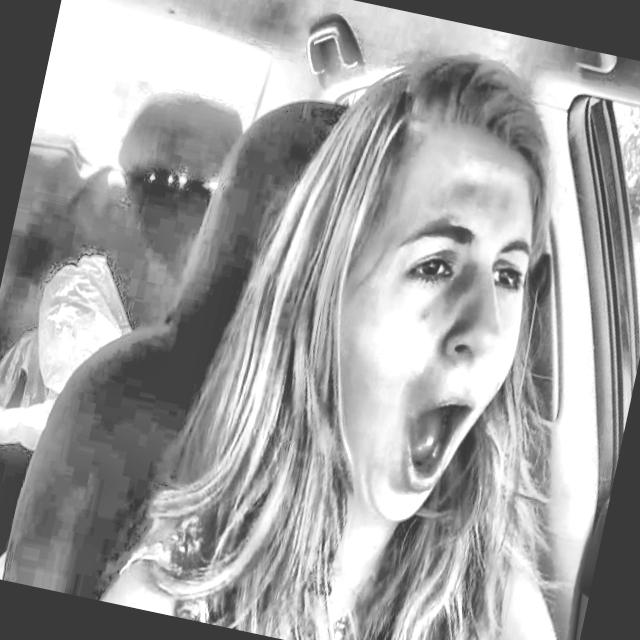open_eyes: (394, 246, 460, 304), (478, 255, 536, 301)
open_mouth: (386, 381, 480, 504)
